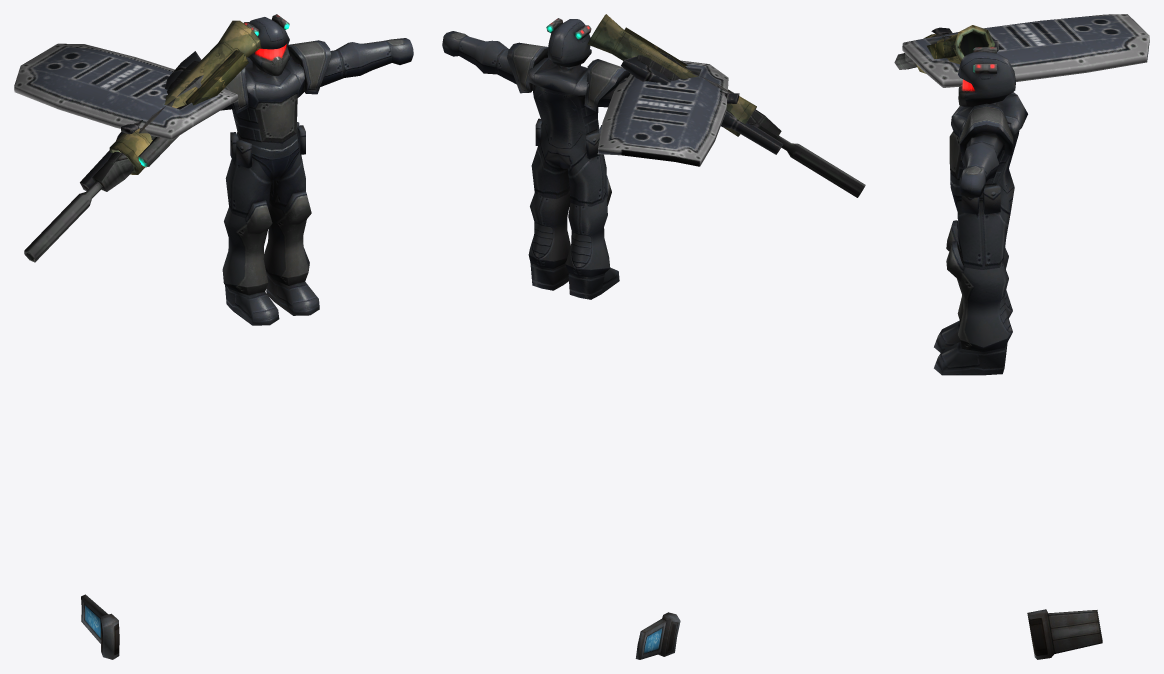
Rendered from UPLScout.glb.
The picture shows the model from 3 angles, left to right: view 1: azimuth 30°, elevation 25°; view 2: azimuth 150°, elevation 25°; view 3: azimuth 270°, elevation 25°; orthographic projection. The views are drawn at different scales.
Parts seen in each view (by area): view 1: Mesh, RiotShield, Launcher, SCOUT Gun, Tablet, Shotgun; view 2: Mesh, RiotShield, Launcher, SCOUT Gun, Shotgun, Tablet; view 3: Mesh, RiotShield, Tablet, Launcher.
Part boxes in pixels (x1=…): Mesh: x1=221, y1=14, x2=413, y2=325; RiotShield: x1=14, y1=43, x2=238, y2=140; Launcher: x1=109, y1=20, x2=261, y2=174; SCOUT Gun: x1=24, y1=60, x2=203, y2=262; Tablet: x1=81, y1=594, x2=119, y2=659; Shotgun: x1=80, y1=51, x2=201, y2=190; Mesh: x1=442, y1=18, x2=630, y2=299; RiotShield: x1=597, y1=60, x2=728, y2=166; Launcher: x1=587, y1=14, x2=756, y2=136; SCOUT Gun: x1=637, y1=52, x2=865, y2=197; Shotgun: x1=621, y1=56, x2=782, y2=154; Tablet: x1=635, y1=612, x2=680, y2=659; Mesh: x1=934, y1=47, x2=1027, y2=375; RiotShield: x1=902, y1=14, x2=1149, y2=87; Tablet: x1=1027, y1=609, x2=1102, y2=659; Launcher: x1=916, y1=25, x2=994, y2=73.
Bounding box in the file's own units: 1.62 × 2.35 × 0.7949.
7 materials, 7 textured.
